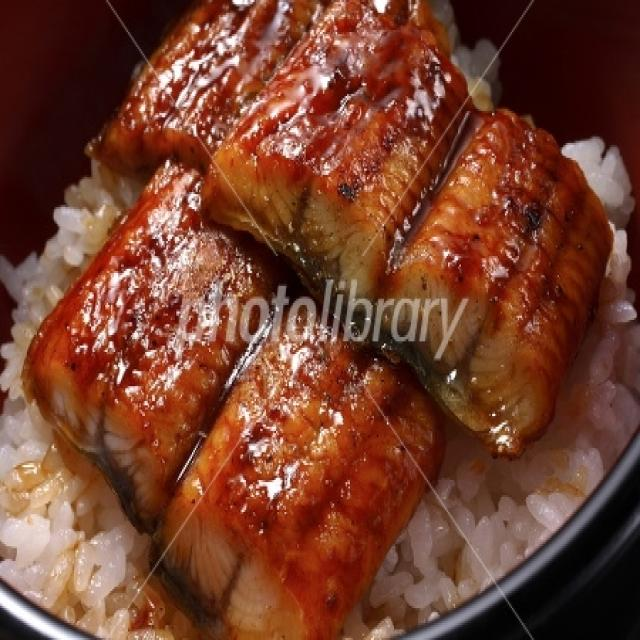熟制海鲜: (20, 17, 616, 614)
